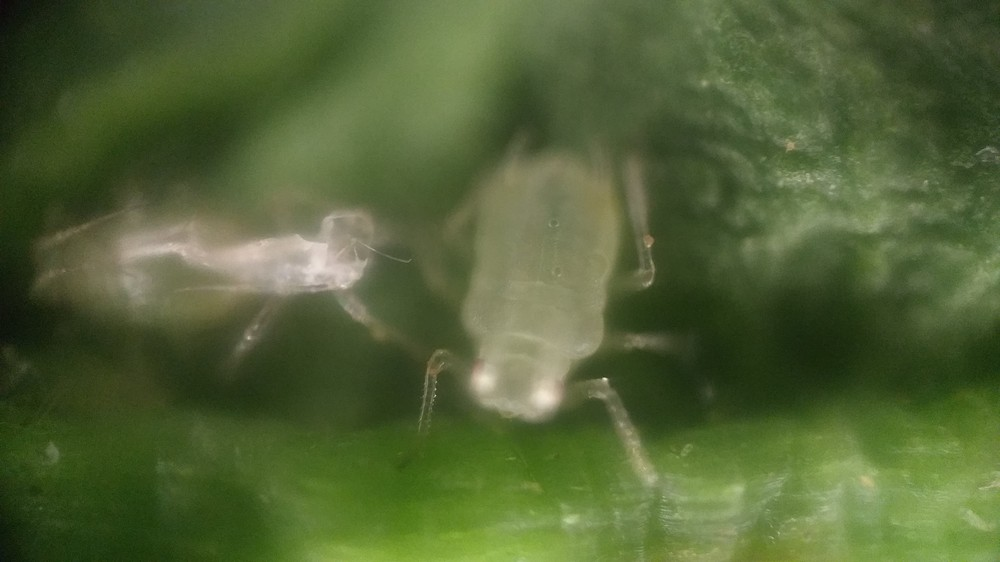Pulgon: (389, 88, 741, 527)
